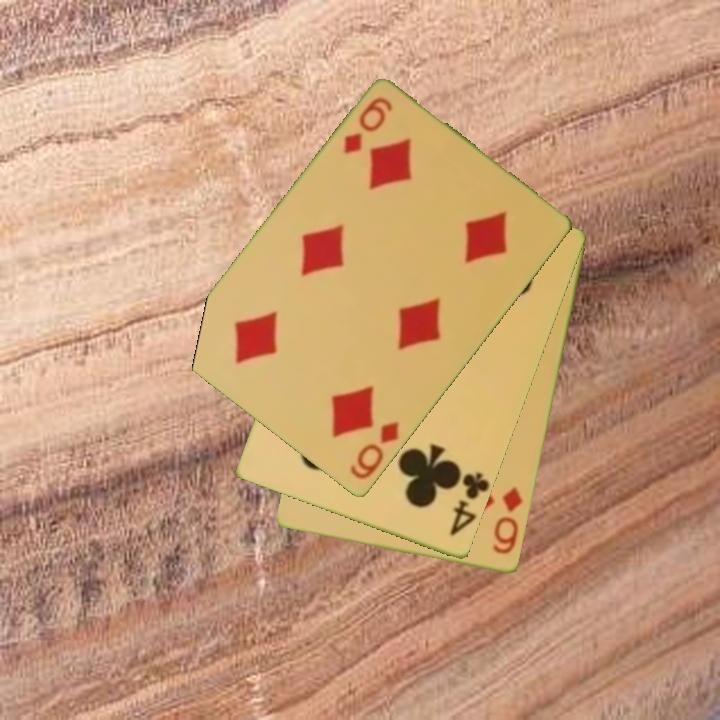4c: (446, 469, 492, 539)
6d: (346, 418, 402, 483), (340, 94, 396, 158), (489, 484, 526, 558)
